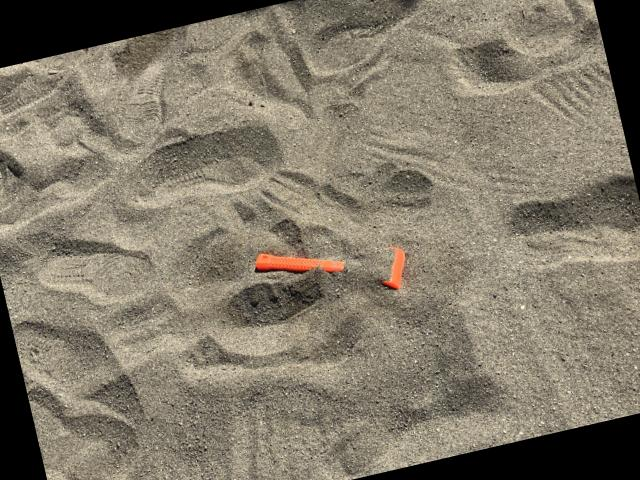hammer: (252, 220, 413, 319)
